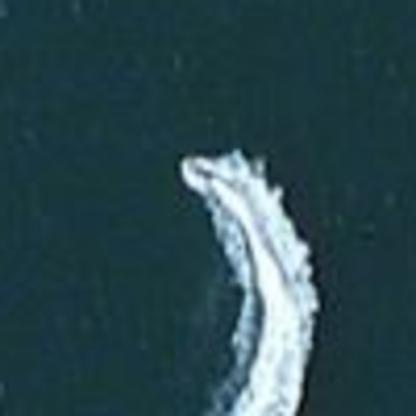ship: (169, 145, 233, 204)
